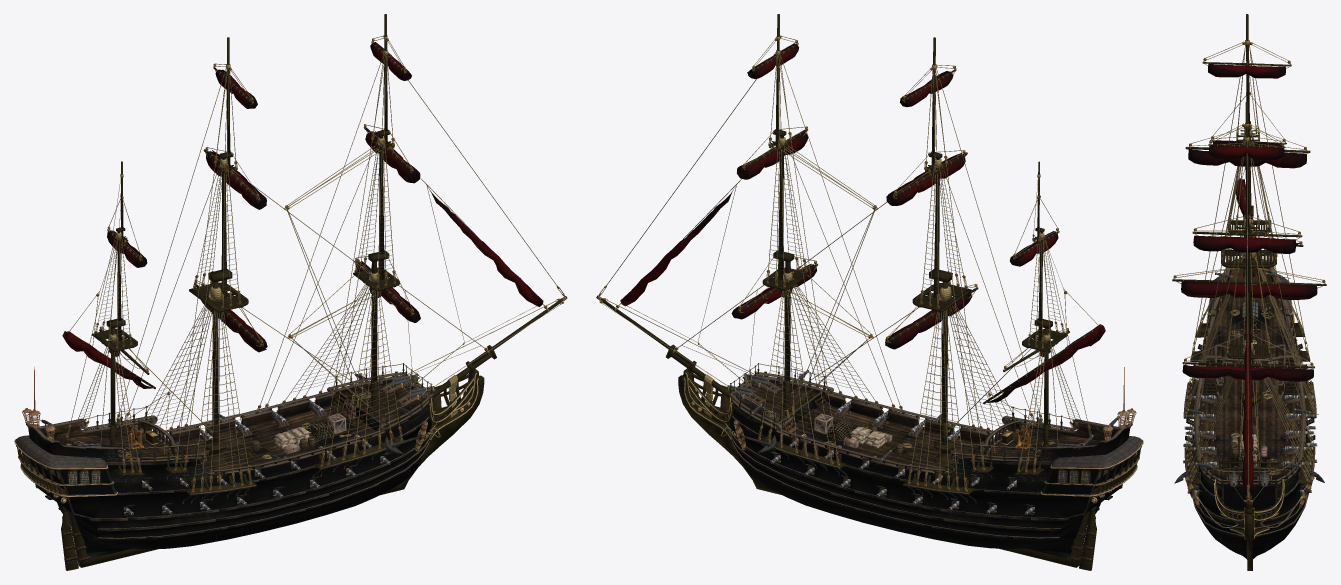
File: witch_queen.glb
3 views of the same model, side by side, from view 1: azimuth 30°, elevation 25°; view 2: azimuth 150°, elevation 25°; view 3: azimuth 270°, elevation 25° (orthographic). The views are drawn at different scales.
Visible parts, largest first — view 1: WitchQueen_Hull.001, WQ_mesh_2249_mat_8_0.001, WQ_sails_hardware.002, WitchQueen_Sails.001, WQ_mesh_2315_mat_22_0.001, WQ_mesh_2316_mat_22_0.001, WQ_sails_hardware.003, WQ_mesh_2302_mat_22_0.001, WQ_mesh_2314_mat_22_0.001, WQ_mesh_2250_mat_9_0.001, WQ_mesh_2262_mat_17_0.001, WQ_mesh_2254_mat_11_0.001 (+1 smaller); view 2: WitchQueen_Hull.001, WQ_mesh_2249_mat_8_0.001, WQ_sails_hardware.002, WitchQueen_Sails.001, WQ_mesh_2315_mat_22_0.001, WQ_mesh_2316_mat_22_0.001, WQ_sails_hardware.003, WQ_mesh_2302_mat_22_0.001, WQ_mesh_2314_mat_22_0.001, WQ_mesh_2250_mat_9_0.001, WQ_mesh_2262_mat_17_0.001, WQ_mesh_2254_mat_11_0.001 (+1 smaller); view 3: WitchQueen_Hull.001, WitchQueen_Sails.001, WQ_sails_hardware.002, WQ_mesh_2249_mat_8_0.001, WQ_mesh_2316_mat_22_0.001, WQ_mesh_2315_mat_22_0.001, WQ_mesh_2250_mat_9_0.001, WQ_mesh_2302_mat_22_0.001, WQ_mesh_2262_mat_17_0.001, WQ_mesh_2304_mat_22_0.001, WQ_mesh_2309_mat_22_0.001, WQ_mesh_2314_mat_22_0.001 (+3 smaller).
Boxes of the visible parts, x1,y1,x2,y2 form: WitchQueen_Hull.001: (15, 372, 435, 558); WQ_mesh_2249_mat_8_0.001: (16, 296, 567, 567); WQ_sails_hardware.002: (66, 14, 414, 425); WitchQueen_Sails.001: (62, 42, 543, 388); WQ_mesh_2315_mat_22_0.001: (115, 64, 252, 493); WQ_mesh_2316_mat_22_0.001: (257, 36, 403, 467); WQ_sails_hardware.003: (79, 148, 397, 474); WQ_mesh_2302_mat_22_0.001: (121, 52, 564, 453); WQ_mesh_2314_mat_22_0.001: (65, 174, 141, 474); WQ_mesh_2250_mat_9_0.001: (84, 296, 566, 475); WQ_mesh_2262_mat_17_0.001: (66, 374, 418, 458); WQ_mesh_2254_mat_11_0.001: (15, 435, 106, 469); WitchQueen_Hull.001: (726, 372, 1143, 558); WQ_mesh_2249_mat_8_0.001: (596, 295, 1141, 567); WQ_sails_hardware.002: (737, 14, 1102, 425); WitchQueen_Sails.001: (620, 43, 1105, 402); WQ_mesh_2315_mat_22_0.001: (907, 64, 1043, 492); WQ_mesh_2316_mat_22_0.001: (758, 36, 902, 466); WQ_sails_hardware.003: (763, 148, 1079, 473); WQ_mesh_2302_mat_22_0.001: (598, 52, 1037, 453); WQ_mesh_2314_mat_22_0.001: (1017, 174, 1092, 473); WQ_mesh_2250_mat_9_0.001: (597, 296, 1074, 501); WQ_mesh_2262_mat_17_0.001: (743, 374, 1082, 479); WQ_mesh_2254_mat_11_0.001: (1052, 436, 1142, 469); WitchQueen_Hull.001: (1183, 257, 1316, 558); WitchQueen_Sails.001: (1181, 63, 1317, 489); WQ_sails_hardware.002: (1172, 14, 1326, 434); WQ_mesh_2249_mat_8_0.001: (1185, 295, 1315, 570); WQ_mesh_2316_mat_22_0.001: (1185, 123, 1313, 482); WQ_mesh_2315_mat_22_0.001: (1185, 40, 1315, 414); WQ_mesh_2250_mat_9_0.001: (1174, 309, 1324, 527); WQ_mesh_2302_mat_22_0.001: (1210, 139, 1288, 499); WQ_mesh_2262_mat_17_0.001: (1228, 284, 1279, 475); WQ_mesh_2304_mat_22_0.001: (1183, 123, 1313, 369); WQ_mesh_2309_mat_22_0.001: (1173, 41, 1325, 288); WQ_mesh_2314_mat_22_0.001: (1196, 76, 1303, 334).
Bounding box in the file's own units: 15.79 × 13.87 × 4.08.
19 materials, 19 textured.
